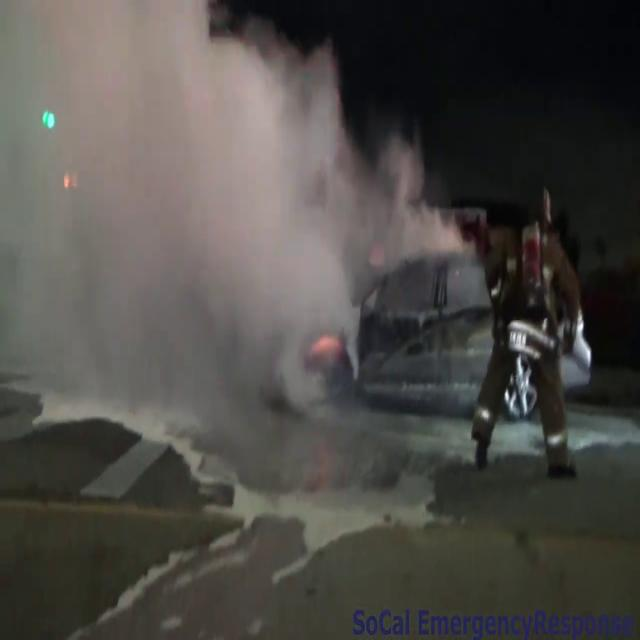Smoke: (0, 0, 416, 445)
